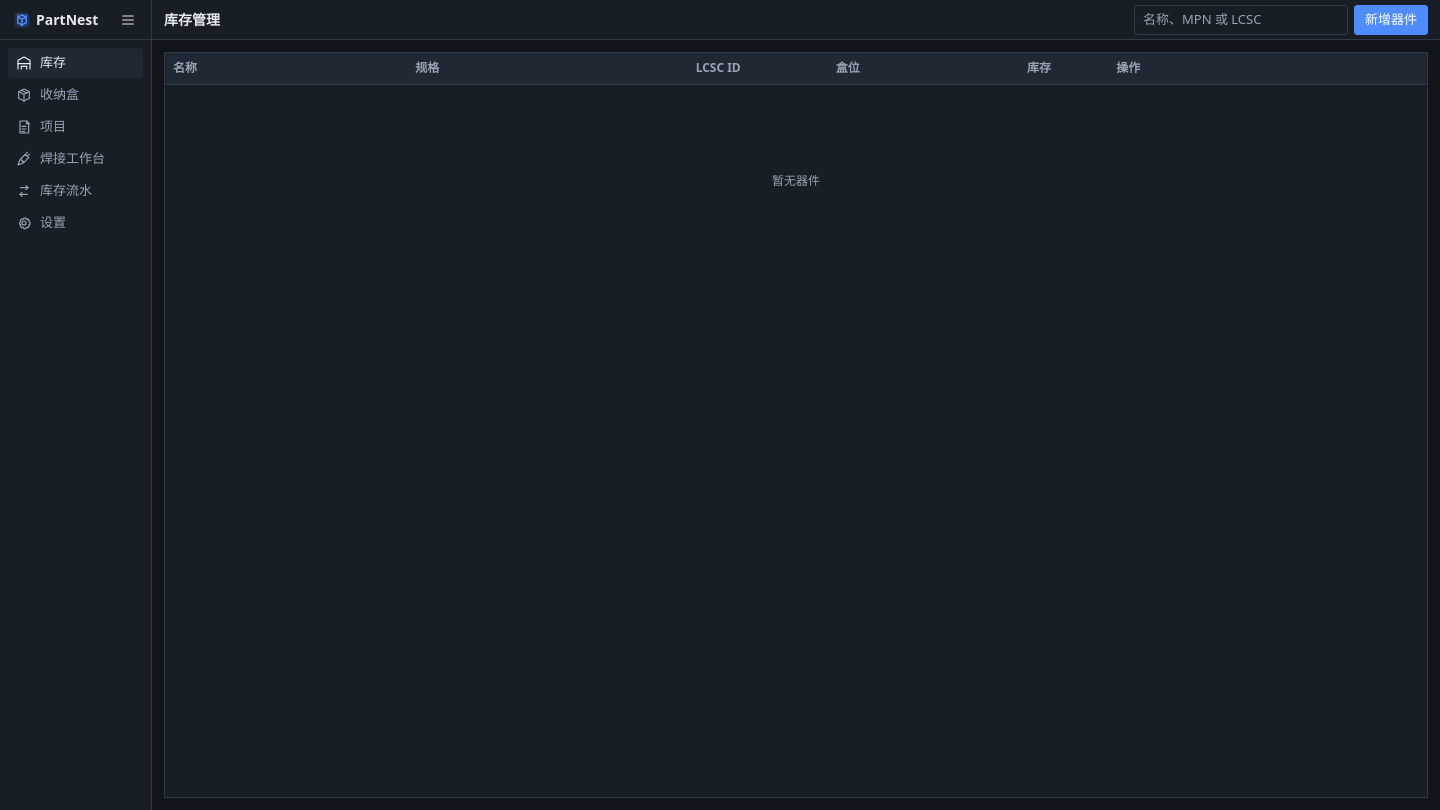
it: AppShell › shows one route title in the page toolbar
Click the link "项目".
click(41, 126)  # box [16,117,66,135]
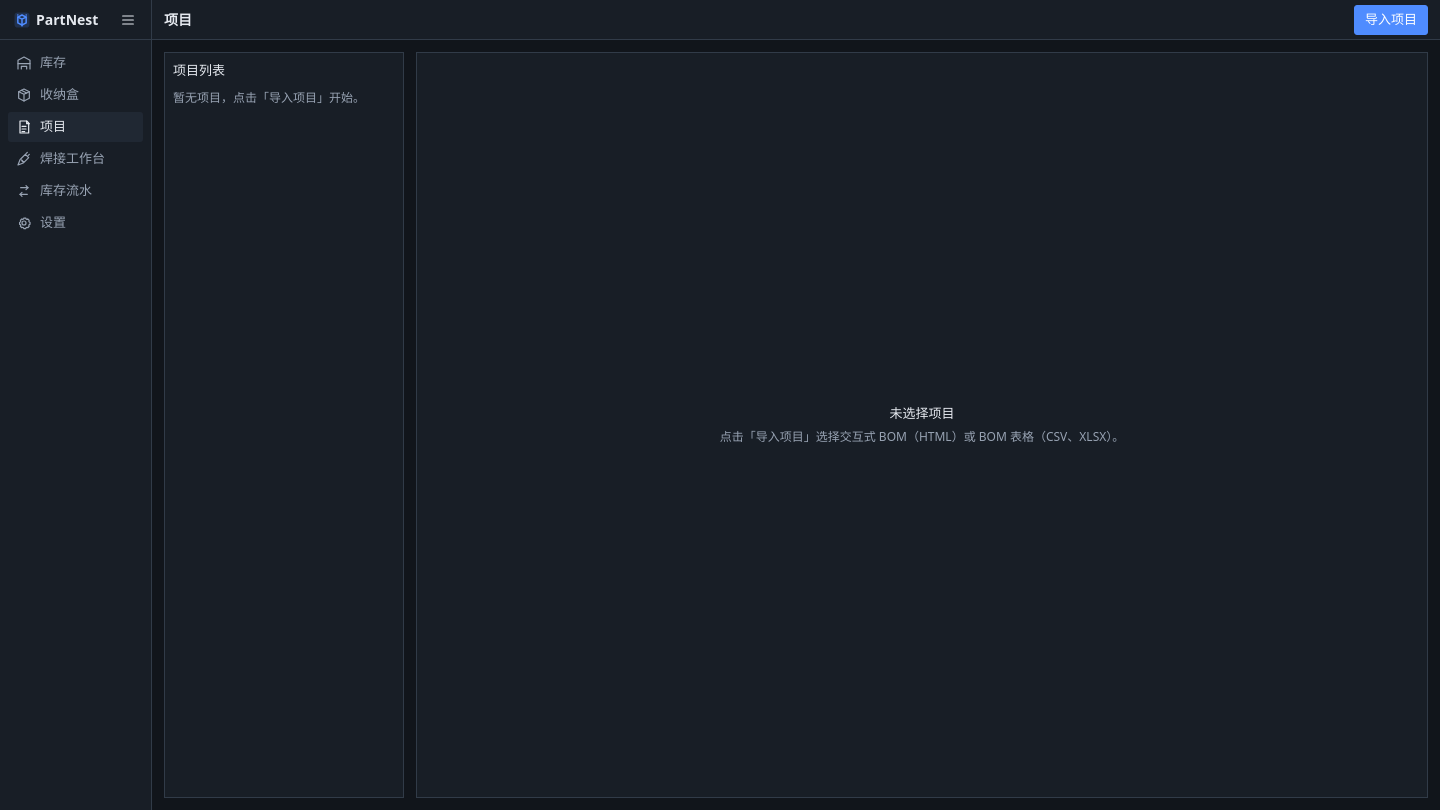
Expected: the number of headings "项目" is 1, [164,12,192,26]
Result: the element named "项目工具栏" is shown at [152,0,1439,40]
